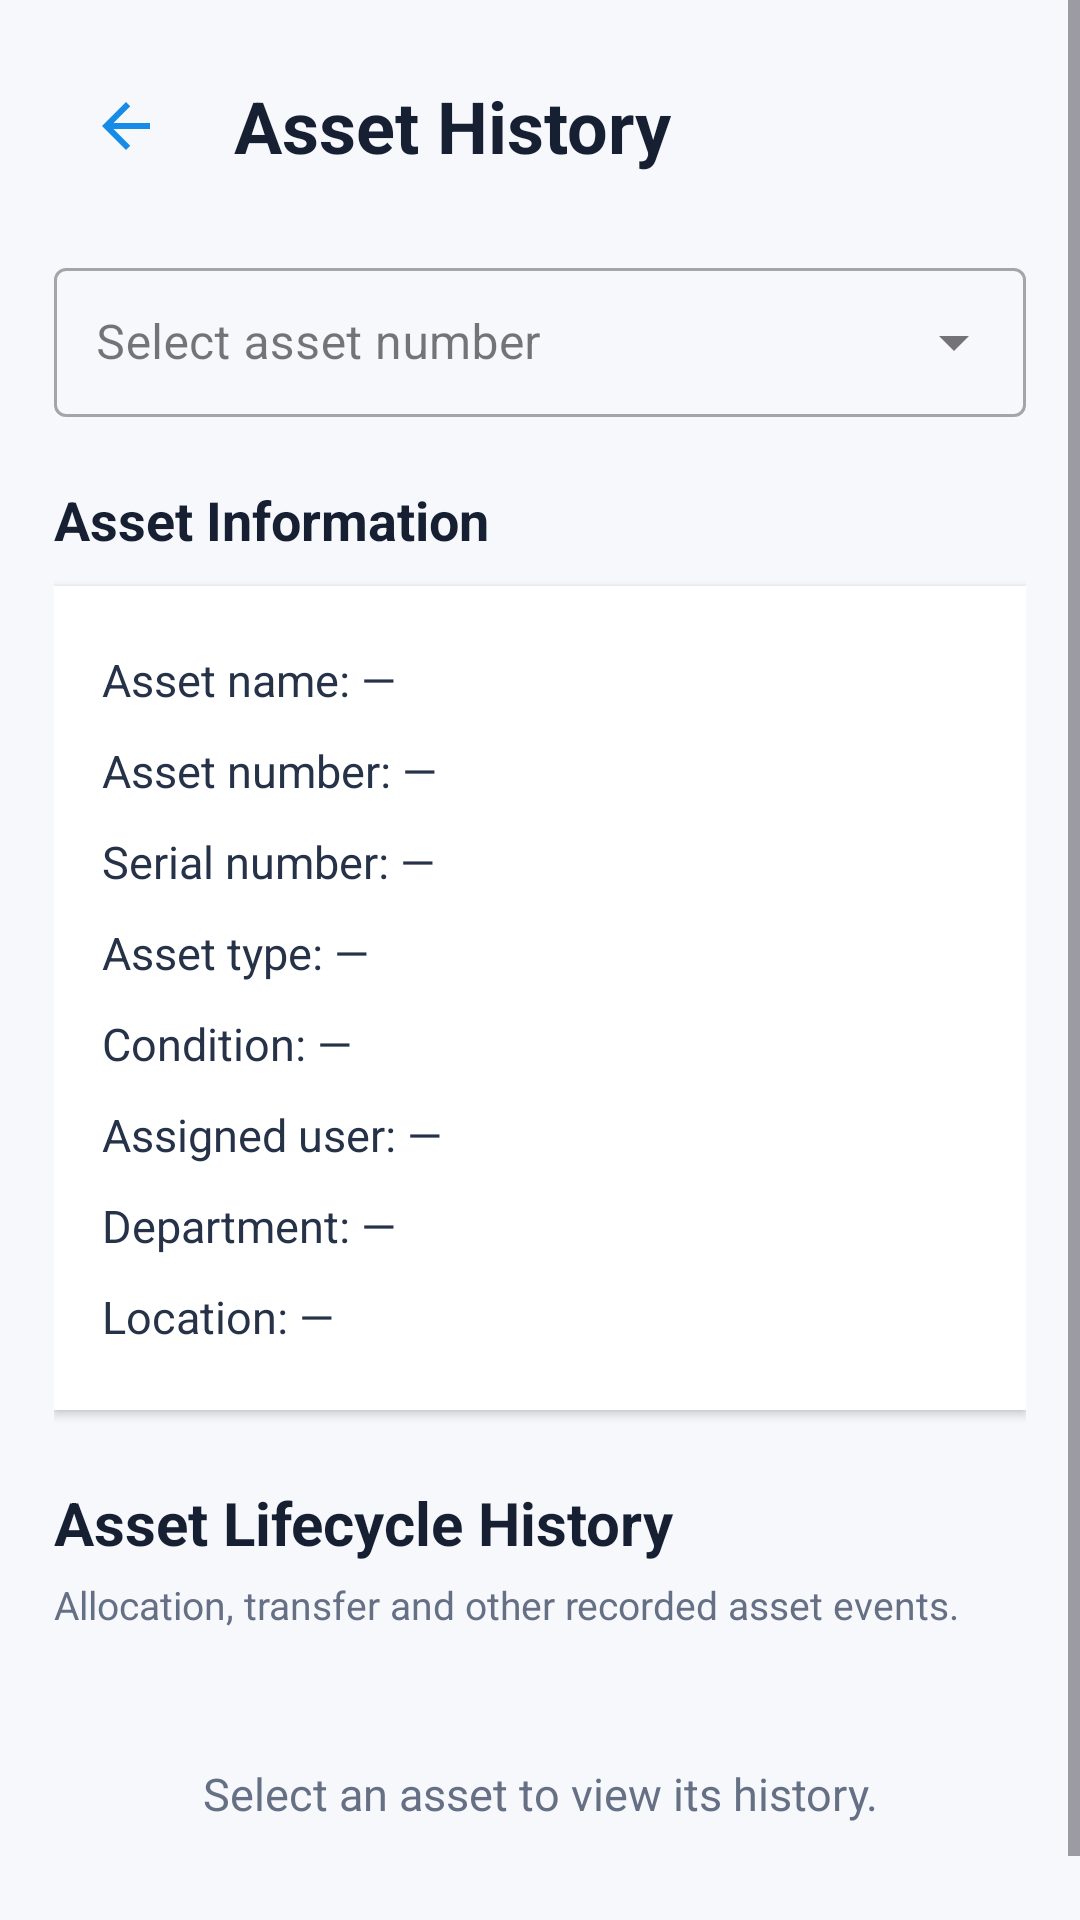

Screen size 1080px x 1920px. Icon name, then its center in pixels as point (x, y):
Go back: point (126, 126)
